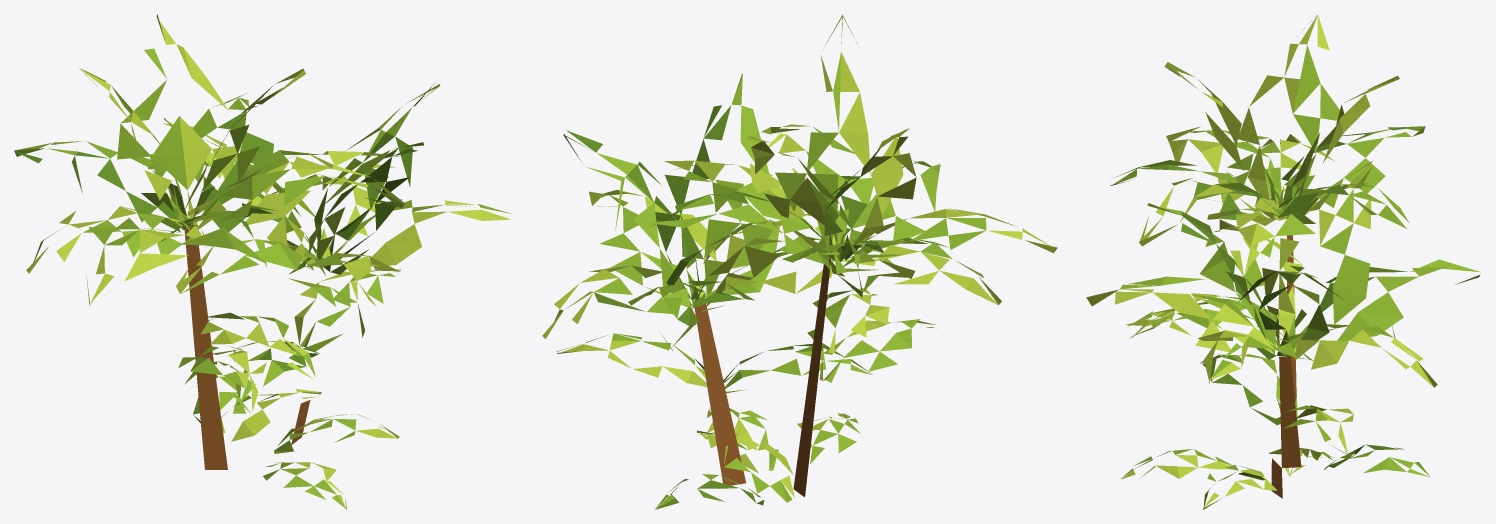
The model's file is lod_nmg_plant_c.glb.
The picture shows the model from 3 angles, left to right: view 1: azimuth 30°, elevation 25°; view 2: azimuth 150°, elevation 25°; view 3: azimuth 270°, elevation 25°; orthographic projection. The views are drawn at different scales.
Parts seen in each view (by area): view 1: nmg_plant_c; view 2: nmg_plant_c; view 3: nmg_plant_c.
Part boxes in pixels (x1,y1,x2,y2): nmg_plant_c: (14,14,512,509); nmg_plant_c: (542,14,1057,509); nmg_plant_c: (1086,14,1480,509).
Bounding box in the file's own units: 1.12 × 1.02 × 0.8896.
